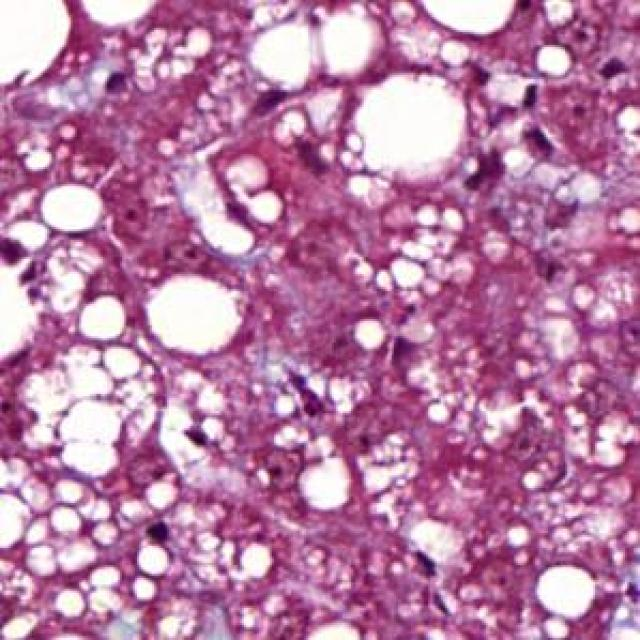steatosis: (250, 28, 332, 94)
